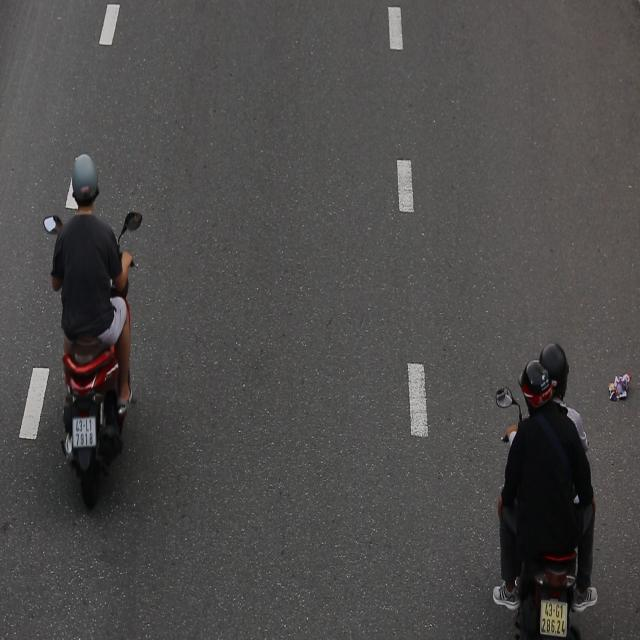motorbike: (482, 316, 622, 640), (38, 138, 149, 508)
